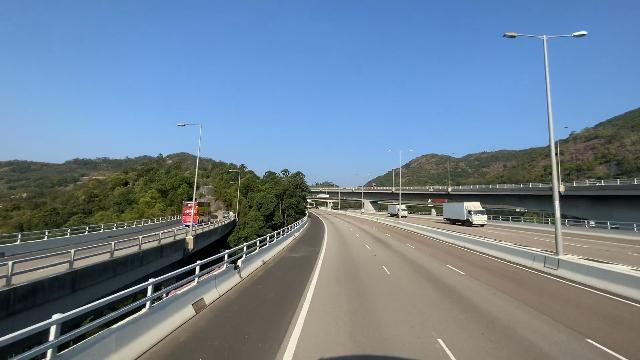bus: (180, 201, 213, 227)
truck: (443, 201, 488, 229), (386, 203, 409, 219)
